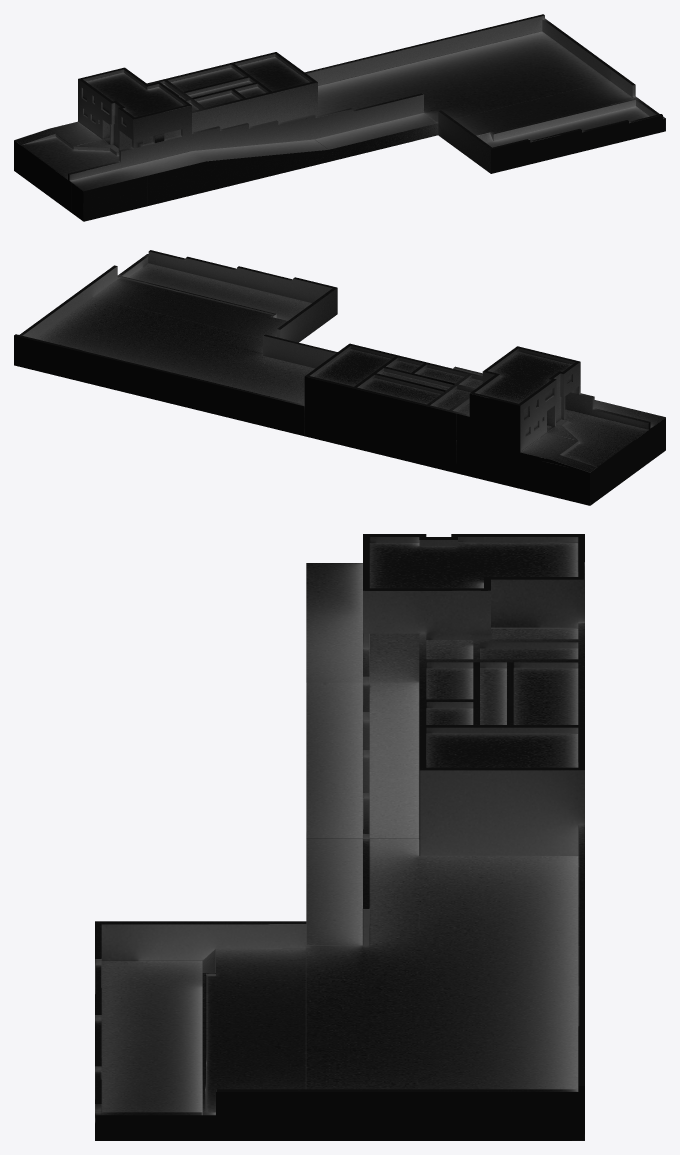
The model's file is RAHM_v7.glb.
The picture shows the model from 3 angles, top to bottom: view 1: azimuth 30°, elevation 25°; view 2: azimuth 150°, elevation 25°; view 3: azimuth 270°, elevation 25°; orthographic projection. The views are drawn at different scales.
Visible parts, largest first — view 1: node_0b4815ab_c5f8_49b2_a73b_a925a7fa070b_mesh0; view 2: node_0b4815ab_c5f8_49b2_a73b_a925a7fa070b_mesh0; view 3: node_0b4815ab_c5f8_49b2_a73b_a925a7fa070b_mesh0.
Part boxes in pixels (x1,y1,x2,y2): node_0b4815ab_c5f8_49b2_a73b_a925a7fa070b_mesh0: (14, 14, 665, 221); node_0b4815ab_c5f8_49b2_a73b_a925a7fa070b_mesh0: (14, 250, 665, 505); node_0b4815ab_c5f8_49b2_a73b_a925a7fa070b_mesh0: (95, 534, 584, 1140).
Bounding box in the file's own units: 3574 × 492 × 1433.
9 materials, 9 textured.
